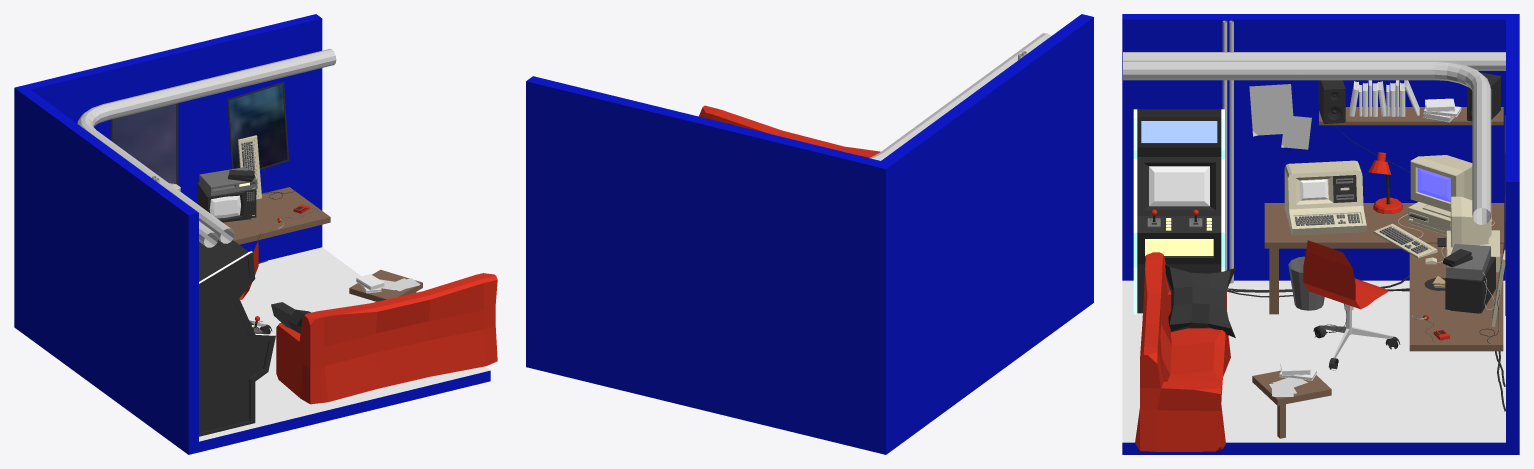
The model's file is room.gltf.
3 views of the same model, side by side, from view 1: azimuth 30°, elevation 25°; view 2: azimuth 150°, elevation 25°; view 3: azimuth 270°, elevation 25° (orthographic). The views are drawn at different scales.
Parts seen in each view (by area): view 1: Plane, Sofa, Arcade, Pipe.001, Poster.001, Poster, Table.002, Plane.017, Table.001, Cube, Keyboard, Plane.022; view 2: Plane, Pipe.001, Sofa; view 3: Plane, Arcade, Sofa, Pipe.001, Table.002, PC, Table, Pipe.003, Cube, Plane.047, Plane.040, Paper.004 (+22 smaller).
Part boxes in pixels (x1,y1,x2,y2): Plane: (14,14,490,454); Sofa: (276,273,497,404); Arcade: (199,239,275,436); Pipe.001: (77,49,336,243); Poster.001: (227,82,289,169); Poster: (110,103,178,184); Table.002: (223,187,330,244); Plane.017: (206,191,244,221); Table.001: (349,269,422,301); Cube: (271,302,310,333); Keyboard: (238,135,261,199); Plane.022: (199,167,256,196); Plane: (526,14,1093,454); Pipe.001: (869,33,1051,160); Sofa: (699,105,880,157); Plane: (1122,14,1519,454); Arcade: (1133,109,1224,314); Sofa: (1135,252,1230,451); Pipe.001: (1123,61,1491,224); Table.002: (1409,243,1503,351); PC: (1284,160,1366,235); Table: (1264,203,1504,248); Pipe.003: (1123,52,1505,70); Cube: (1165,264,1235,337); Plane.047: (1303,240,1387,309); Plane.040: (1410,155,1472,217); Paper.004: (1249,84,1293,136).
Bounding box in the file's own units: 8.73 × 6.28 × 8.28.
26 materials, 2 textured.
